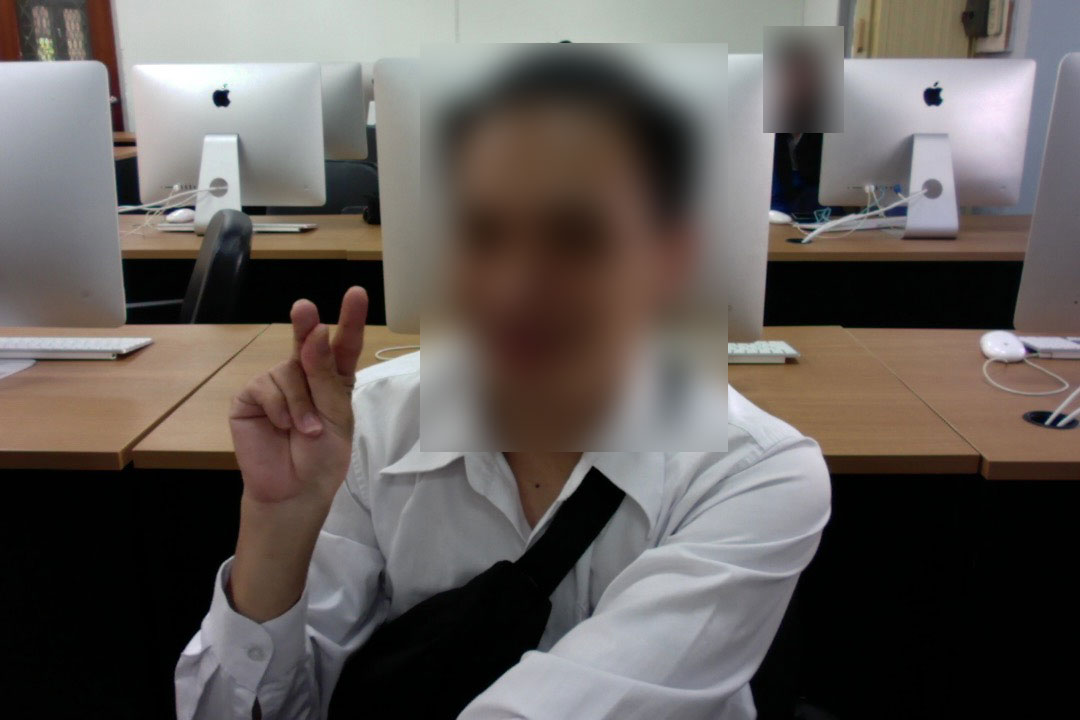ko: (215, 275, 387, 527)
